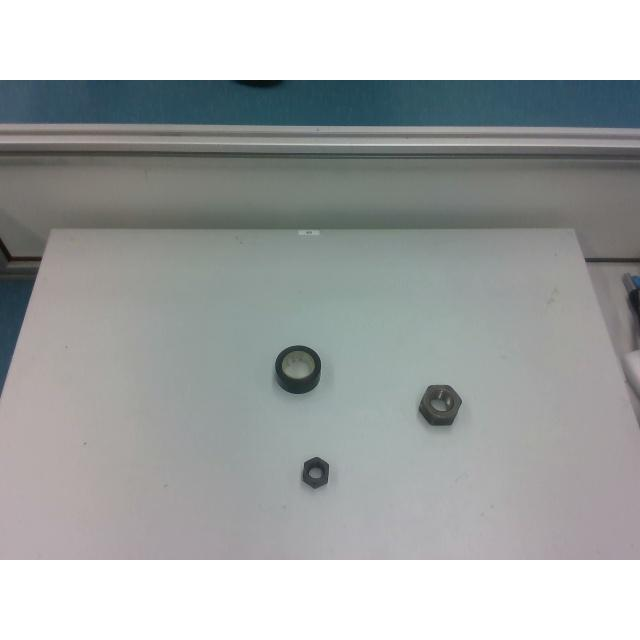M20: (301, 456, 329, 486)
M30: (418, 384, 460, 424)
